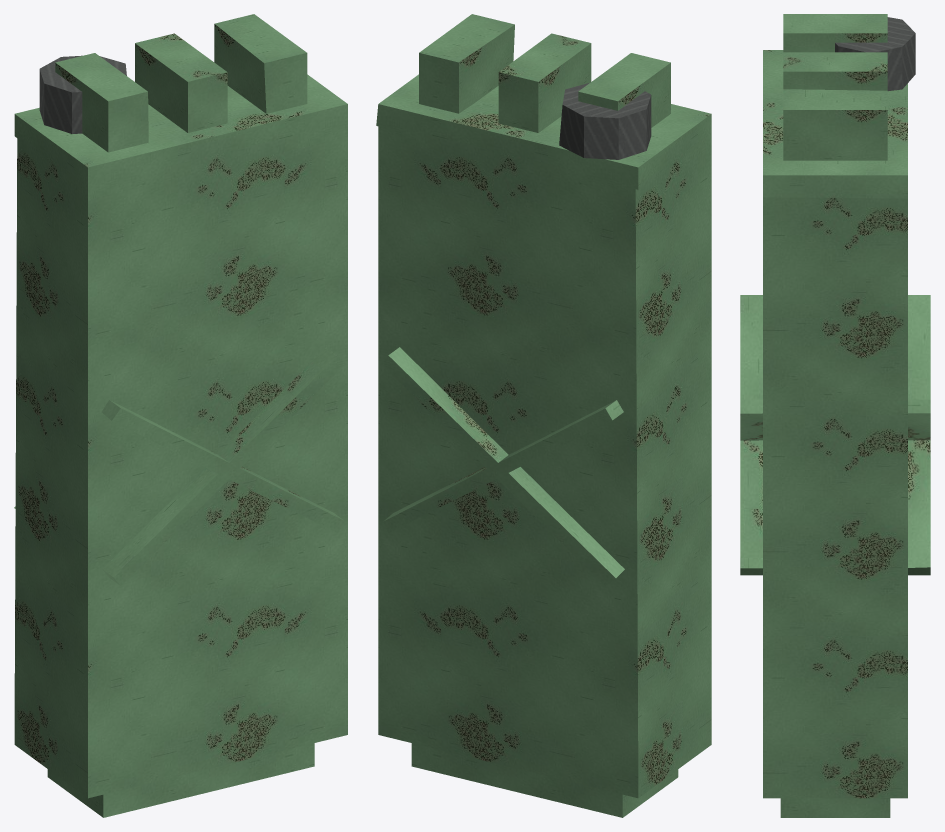
The model's file is jerrycan_v1.glb.
The picture shows the model from 3 angles, left to right: view 1: azimuth 30°, elevation 25°; view 2: azimuth 150°, elevation 25°; view 3: azimuth 270°, elevation 25°; orthographic projection.
Visible parts, largest first — view 1: Variant_jerrycan_1; view 2: Variant_jerrycan_1; view 3: Variant_jerrycan_1.
Boxes of the visible parts, x1,y1,x2,y2 form: Variant_jerrycan_1: [14, 14, 347, 817]; Variant_jerrycan_1: [376, 14, 711, 817]; Variant_jerrycan_1: [740, 14, 930, 817].
Bounding box in the file's own units: 0.1713 × 0.446 × 0.109.
Materials: 2 (2 with a texture image).
